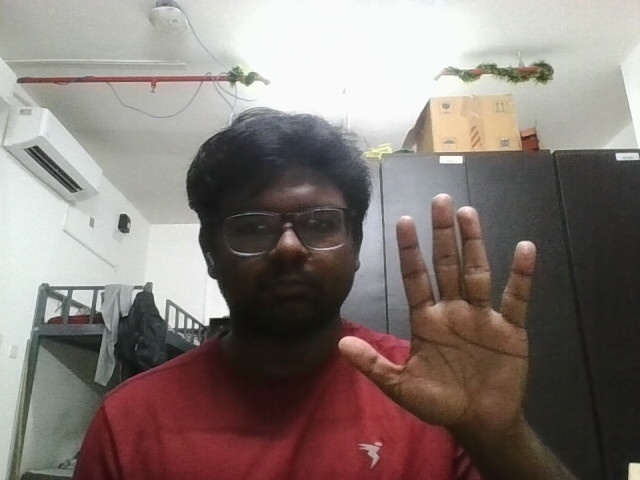Hello: (331, 189, 547, 443)
